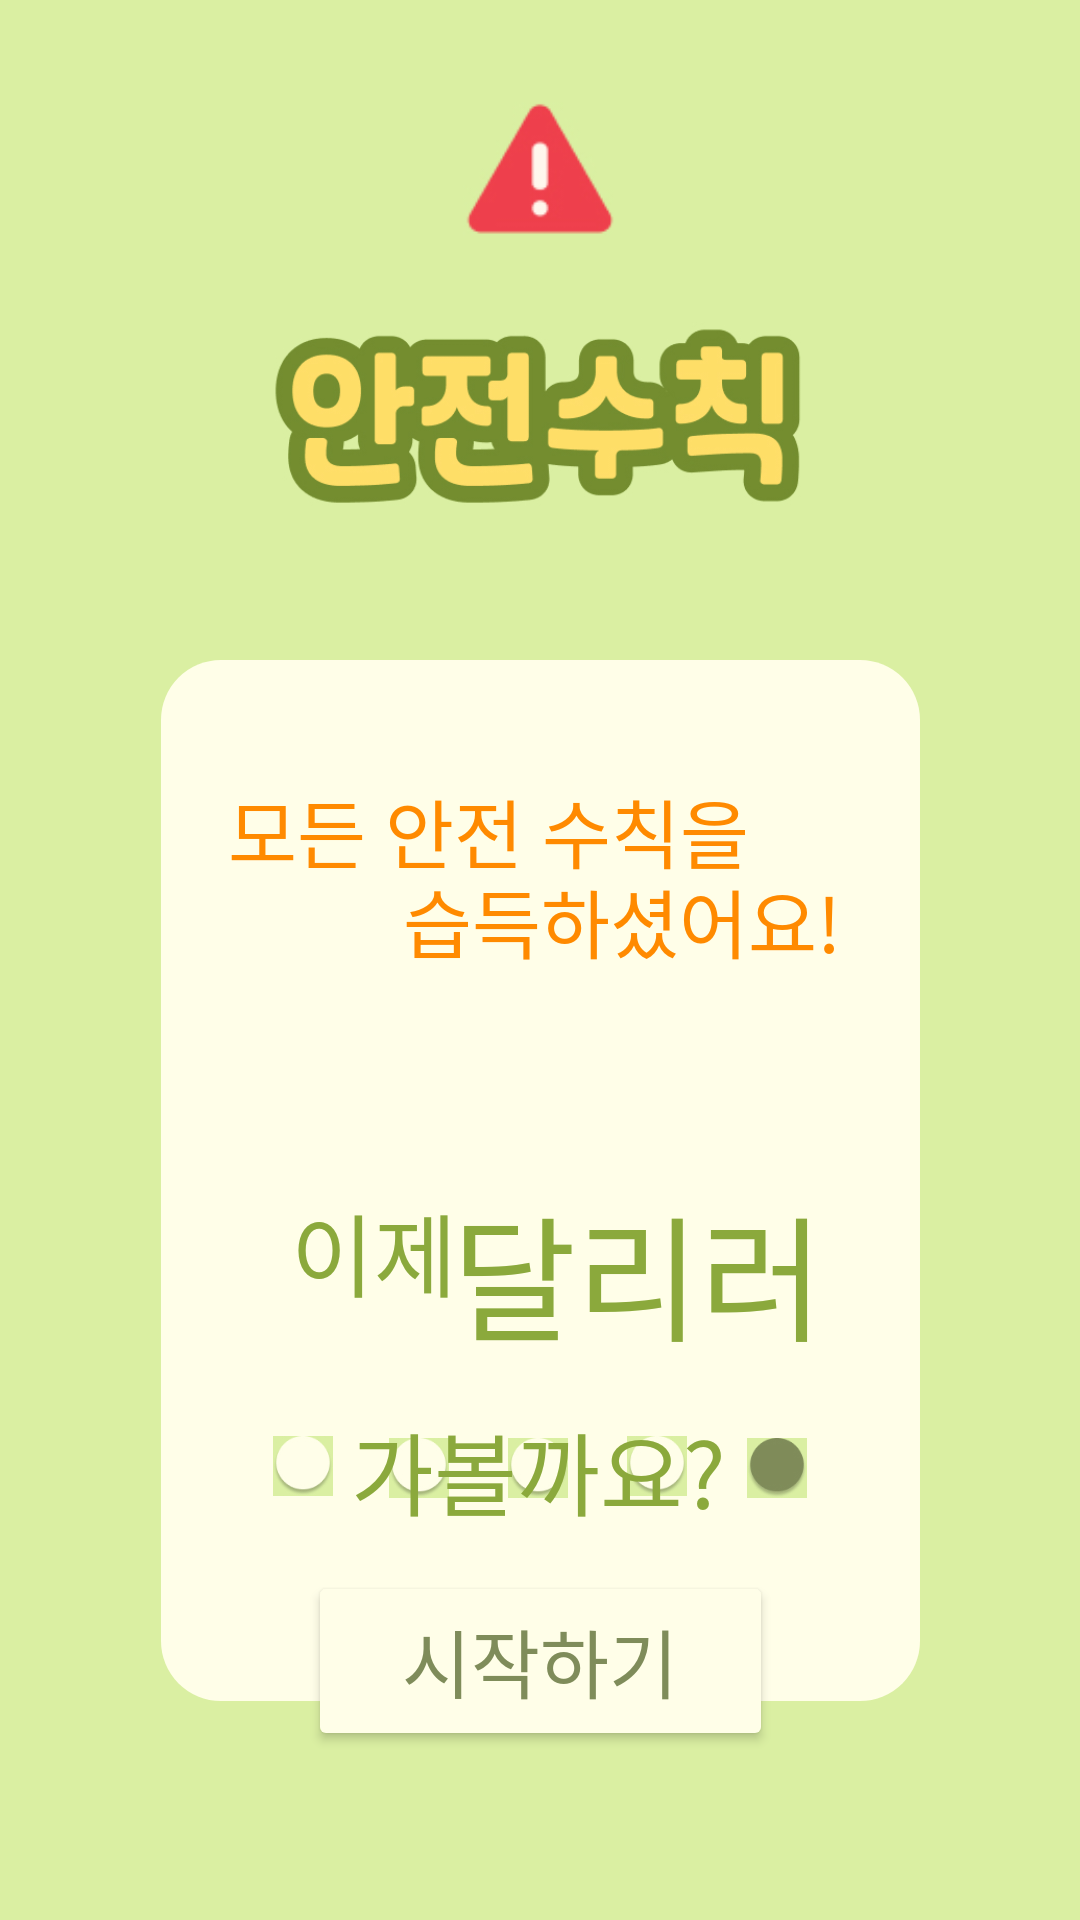

Point at icon controls on the screen. Image size 1080 × 1920, points as point (x, y).
warning: point (540, 169)
